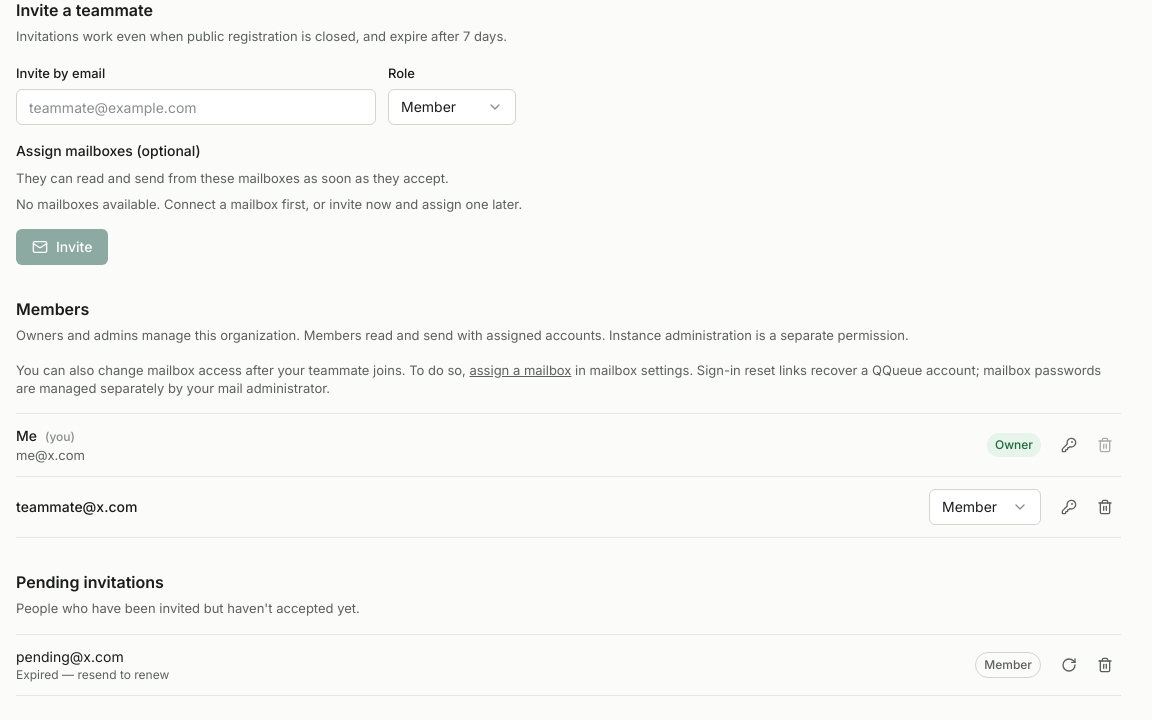
Test case: renews an expired invitation and describes email failure without claiming delivery
(page scrolled)
Expected: the text "Expired — resend to renew" is shown, left=16, top=667, right=169, bottom=682
Click the button named "Resend invitation to pending@x.com": (1069, 665) left=1053, top=649, right=1085, bottom=681
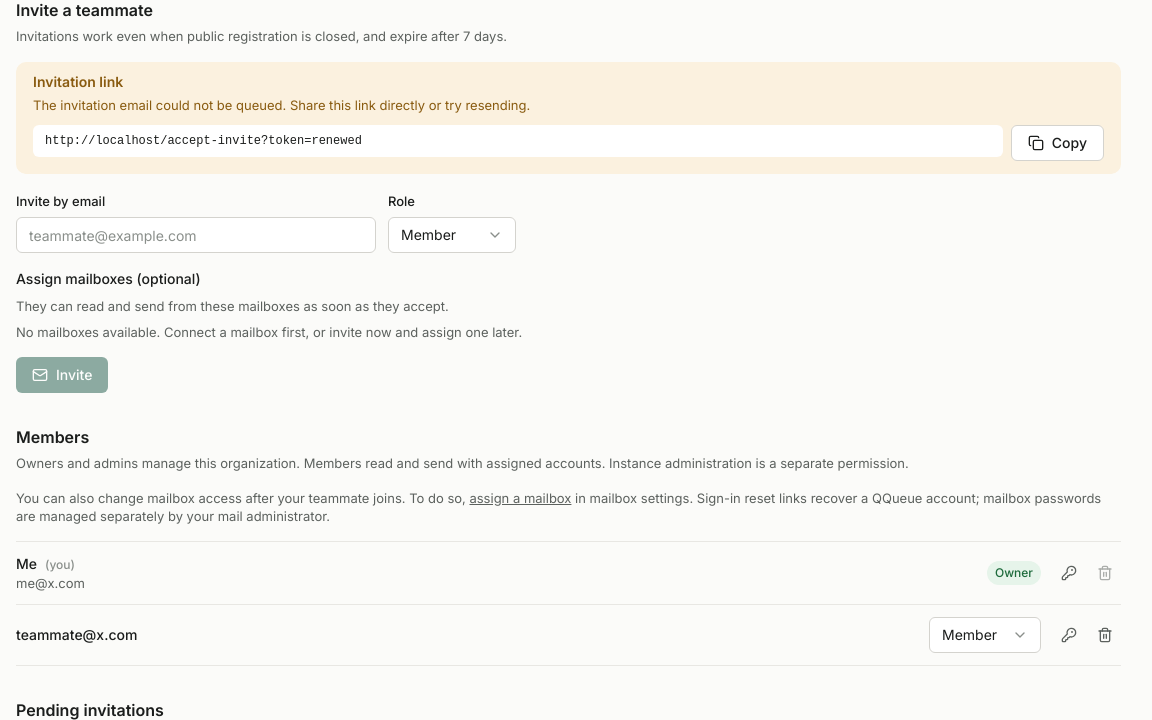
Expected: the text "mailbox passwords are managed separately" is shown, left=16, top=490, right=1101, bottom=524
Now the text "Share this link directly or try resending" is shown, box left=33, top=97, right=530, bottom=113
